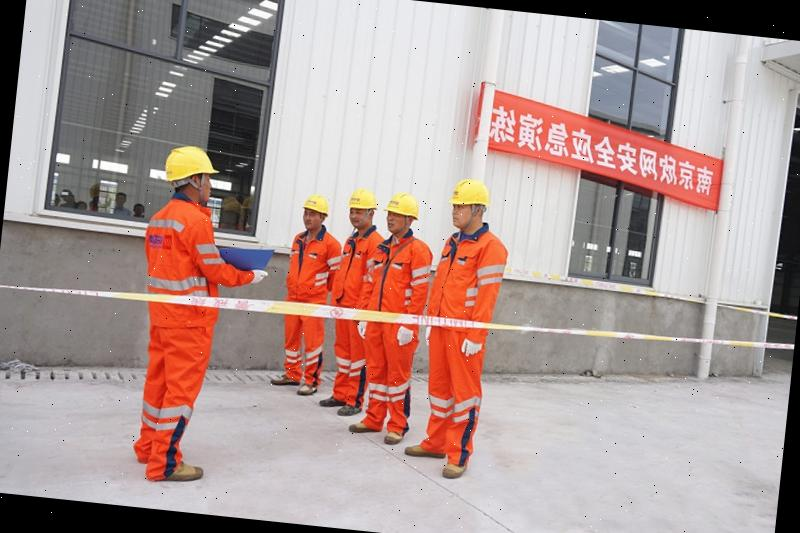helmet: (158, 142, 224, 186), (446, 175, 494, 210), (383, 190, 422, 219), (342, 184, 378, 213), (297, 191, 332, 216)
wear: (138, 198, 214, 304), (287, 234, 337, 304)
